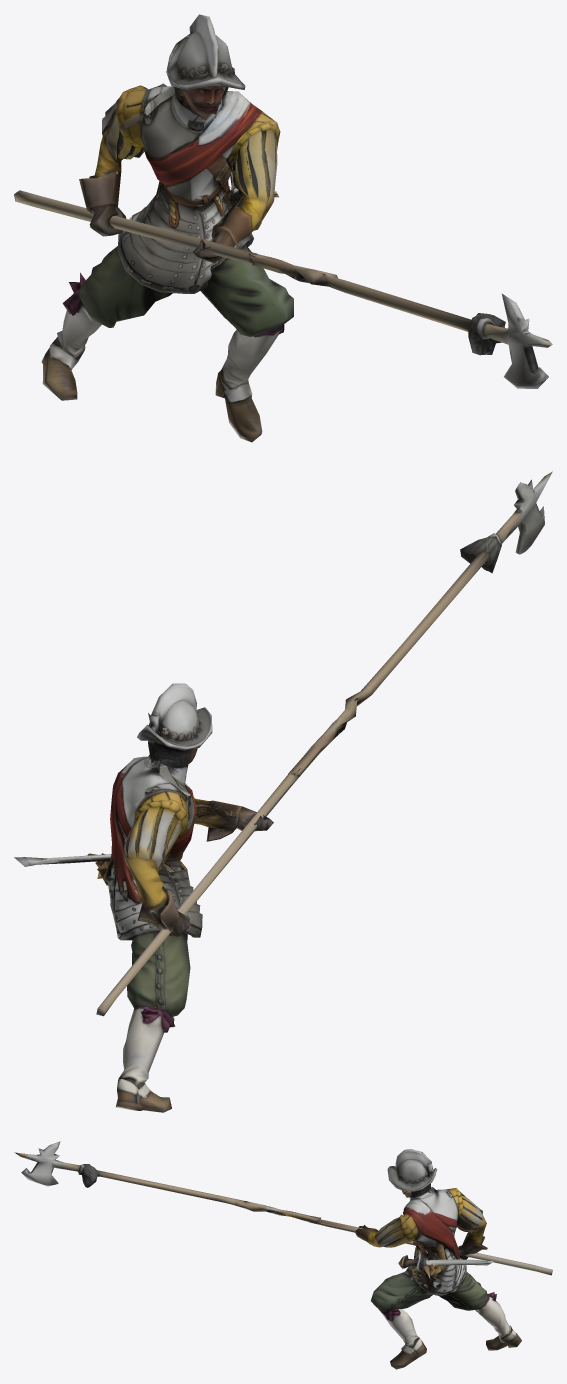
The model's file is SM_PIKEMAN_Ger_F_Atk.glb.
The picture shows the model from 3 angles, top to bottom: view 1: azimuth 30°, elevation 25°; view 2: azimuth 150°, elevation 25°; view 3: azimuth 270°, elevation 25°; orthographic projection. The views are drawn at different scales.
Visible parts, largest first — view 1: Mesh1.011; view 2: Mesh1.011; view 3: Mesh1.011.
Boxes of the visible parts, bbox=[...] form: Mesh1.011: bbox=[14, 14, 552, 442]; Mesh1.011: bbox=[14, 471, 552, 1112]; Mesh1.011: bbox=[14, 1141, 552, 1369].
Bounding box in the file's own units: 0.8351 × 1.86 × 4.22.
Materials: 3 (3 with a texture image).
